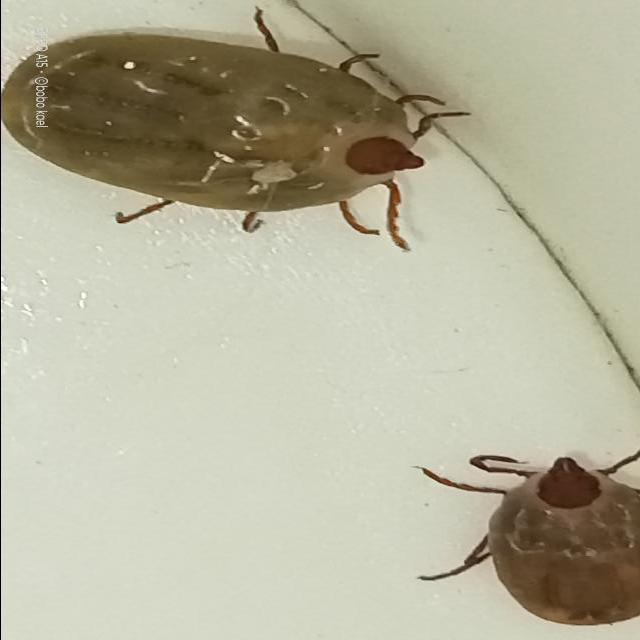Rhipicephalus Sanguineus-F-Fed: (0, 6, 472, 251), (415, 450, 640, 627)
